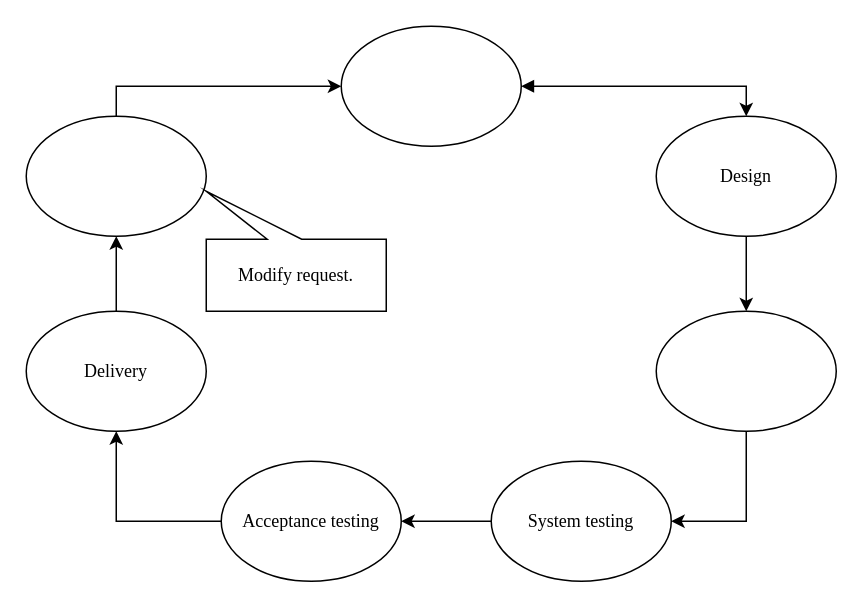
Image size: 863x608. Some labels were removed from this diagram. The centre of each missing label's shape, as x and y in pixels:
Analysis: pixel 430 85
Classification and identification: pixel 115 175
Implementation: pixel 745 370
